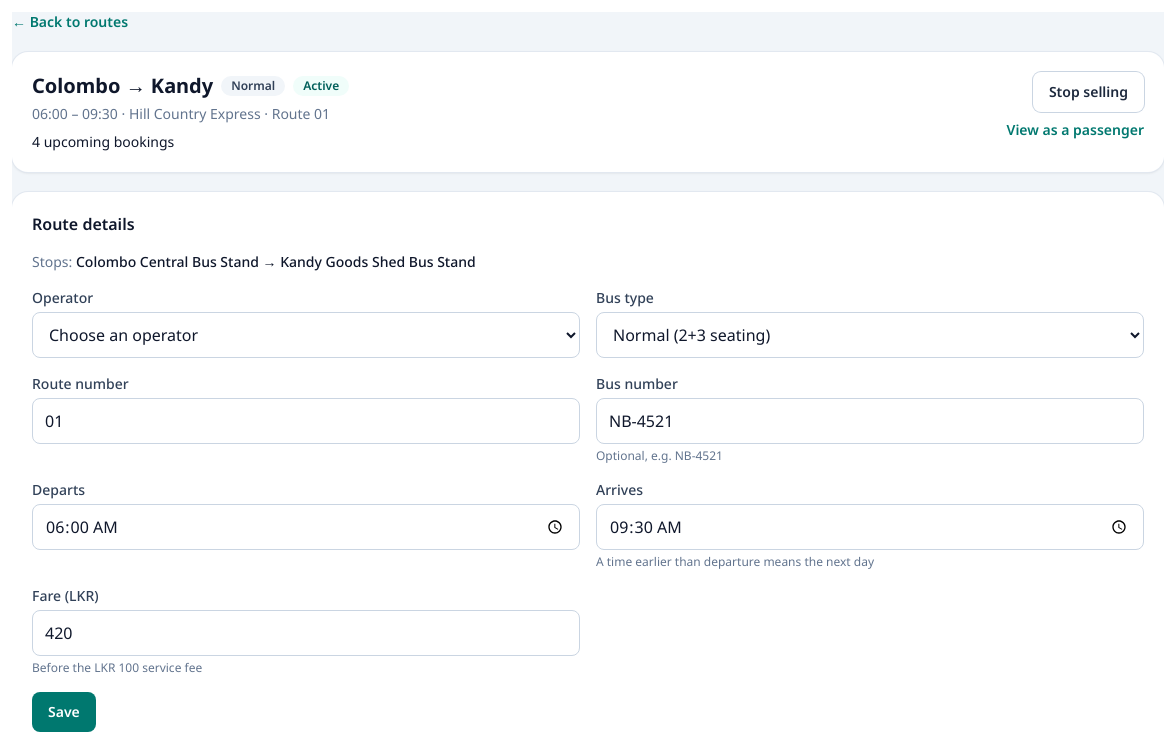
it: Managing a route › shows the server explaining why a change is refused
The width and height of the screenshot is (1164, 732).
Select "Luxury AC (2+2 seating, air-conditioned)" in the dropdown labelled "Bus type" at [870, 335], box [596,312,1144,358]
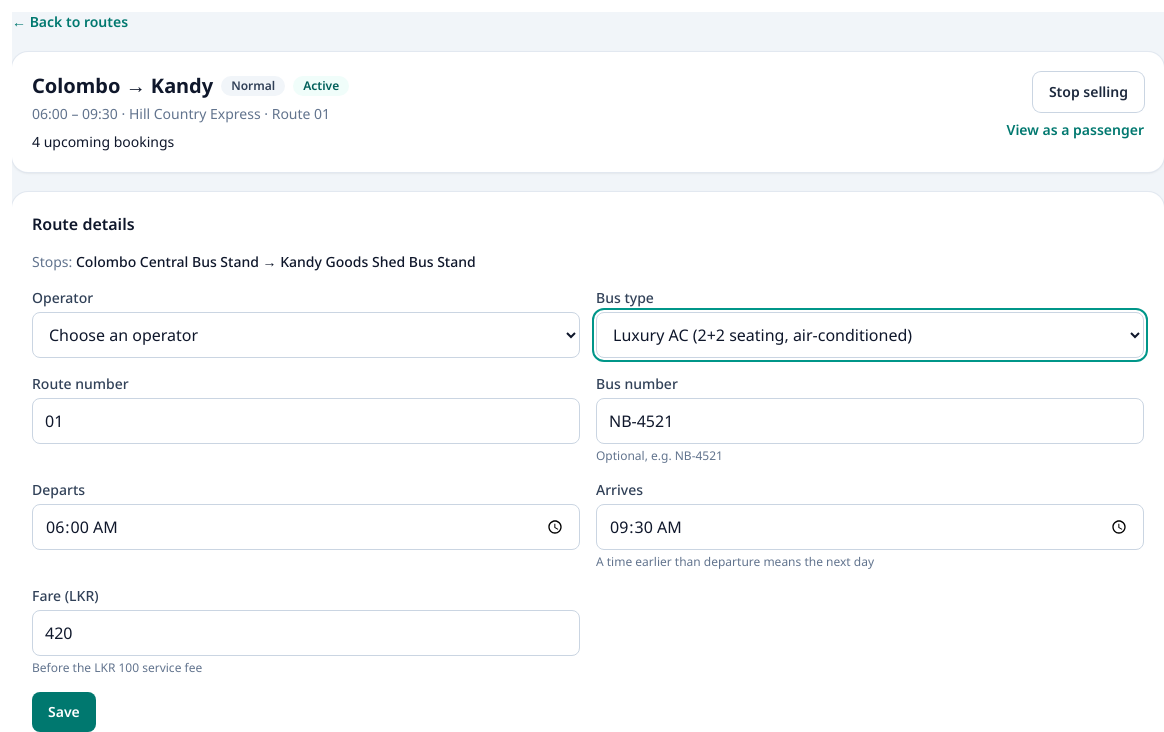
Click the button "Save" at [64, 712], box [32,692,96,731]
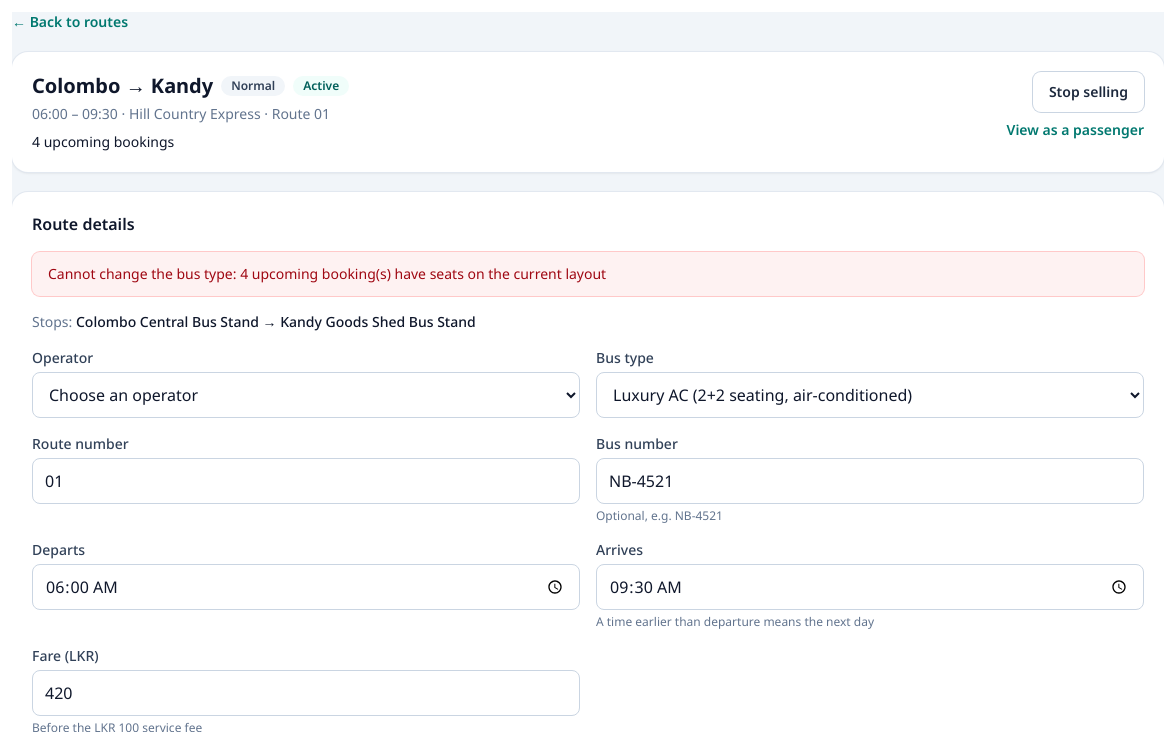
Expected: the message shows "Cannot change the bus type", [48,264,606,283]
